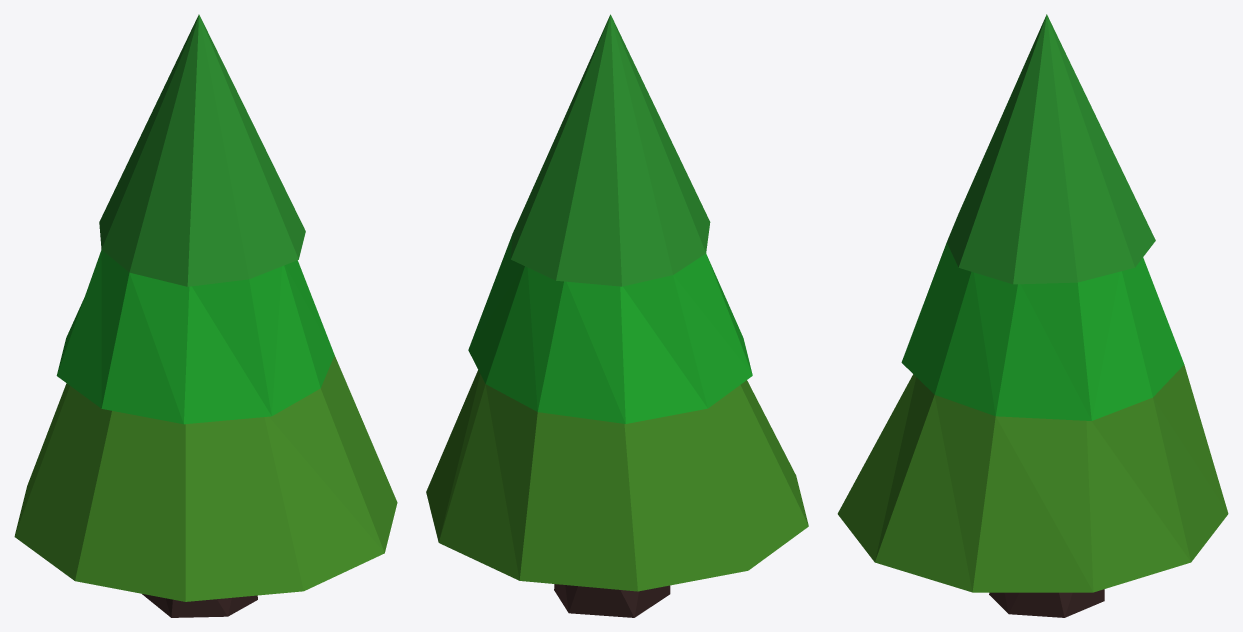
Rendered from Tannenbaum03.fbx.
3 views of the same model, side by side, from view 1: azimuth 30°, elevation 25°; view 2: azimuth 150°, elevation 25°; view 3: azimuth 270°, elevation 25° (orthographic).
Parts seen in each view (by area): view 1: Cone.001; view 2: Cone.001; view 3: Cone.001.
Part boxes in pixels (box(x1,y1,x2,y2)): Cone.001: box(14, 14, 397, 617); Cone.001: box(426, 14, 808, 617); Cone.001: box(837, 14, 1228, 617).
Bounding box in the file's own units: 840 × 1448 × 883.
